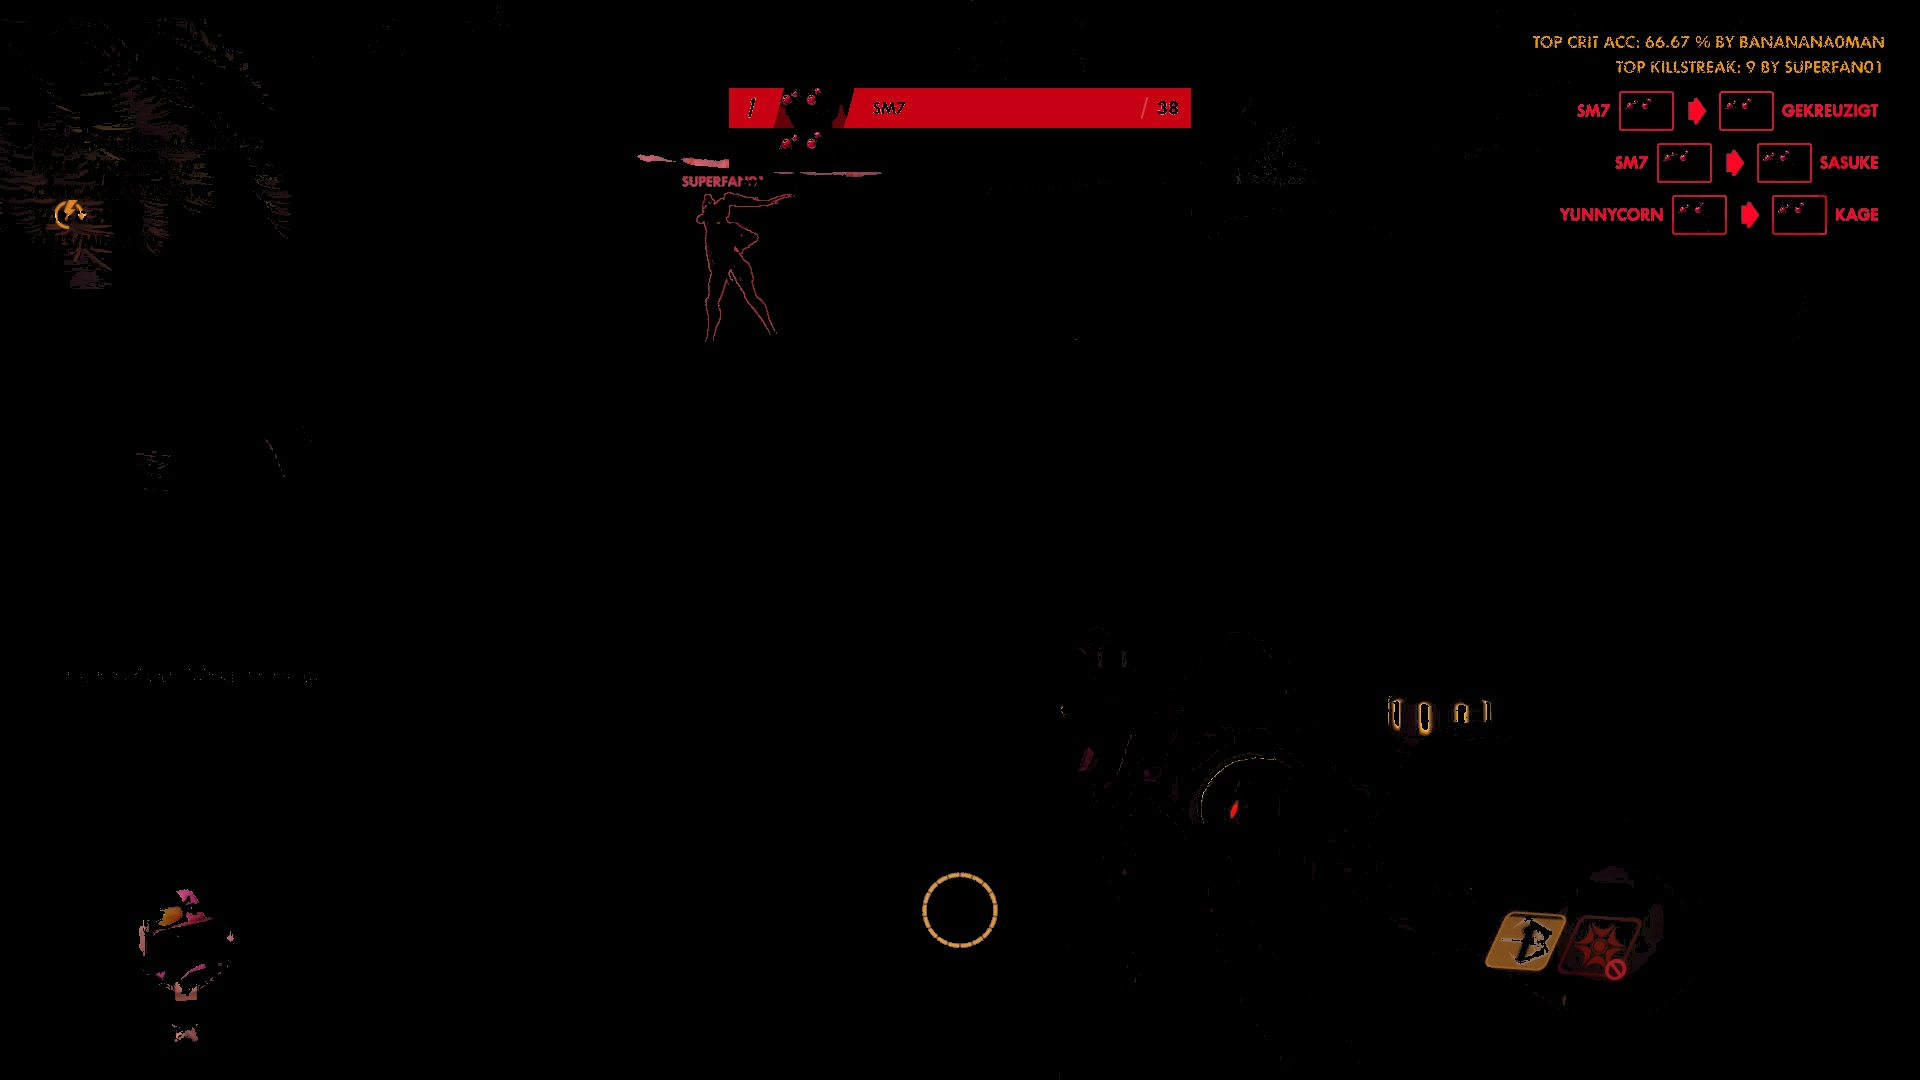widowmaker: (695, 186, 789, 356)
